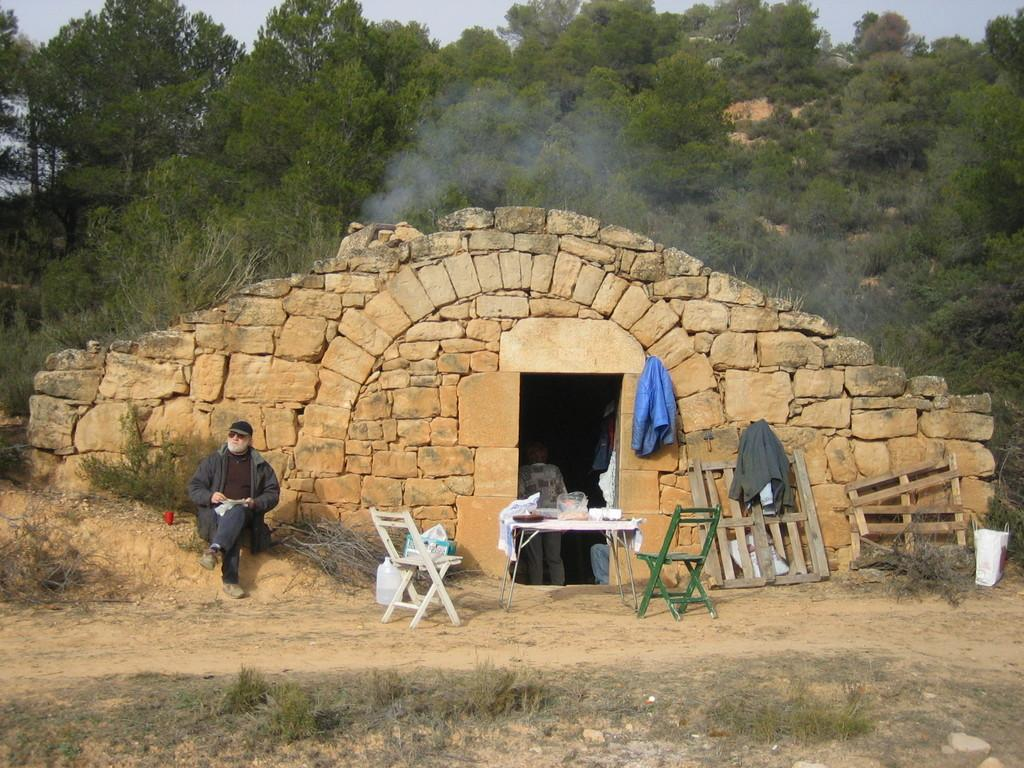Chair: (356, 521, 467, 630), (630, 502, 719, 620)
